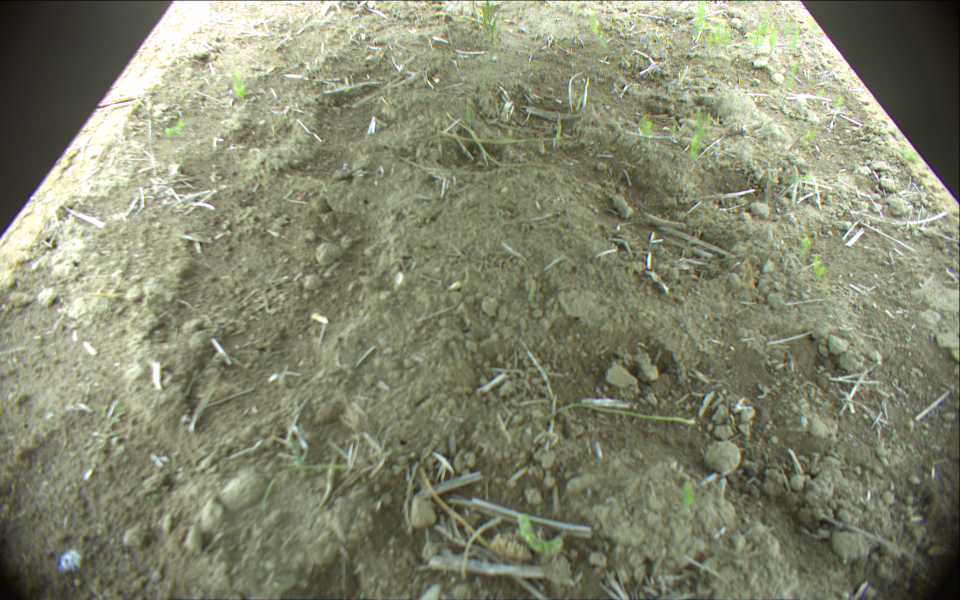aspa: (507, 404, 694, 435), (518, 511, 565, 555), (438, 131, 566, 143), (460, 15, 493, 26), (554, 110, 563, 148), (539, 132, 546, 155), (470, 1, 479, 18)
